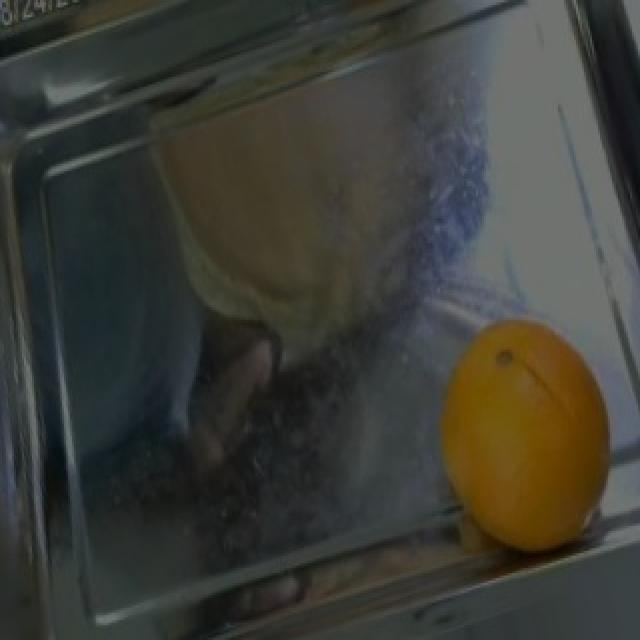Fruit: (420, 305, 632, 573)
